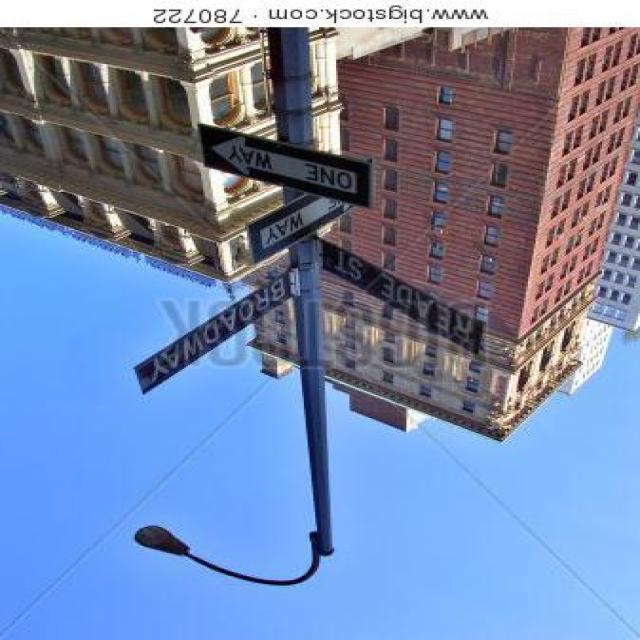off: (93, 458, 404, 622)
